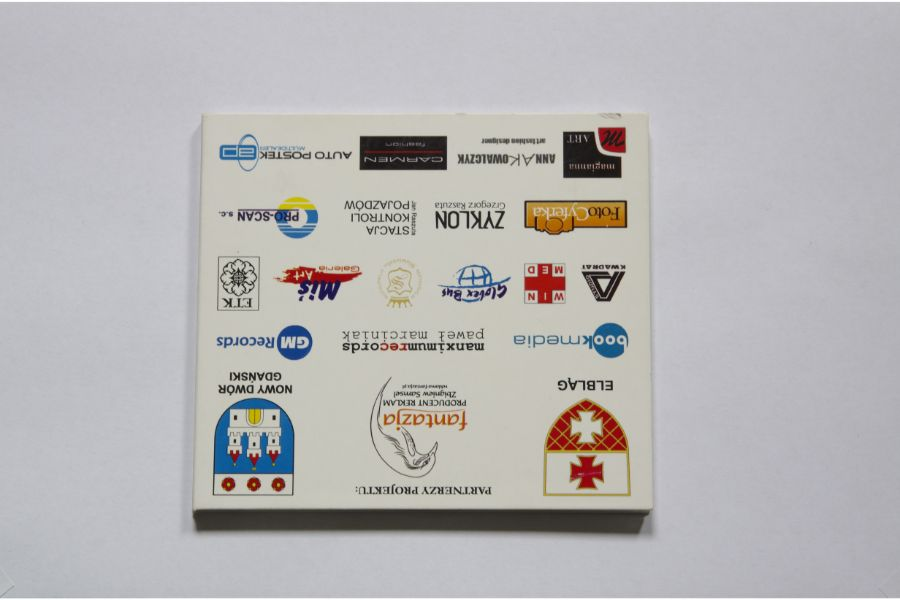album: (192, 109, 656, 512)
